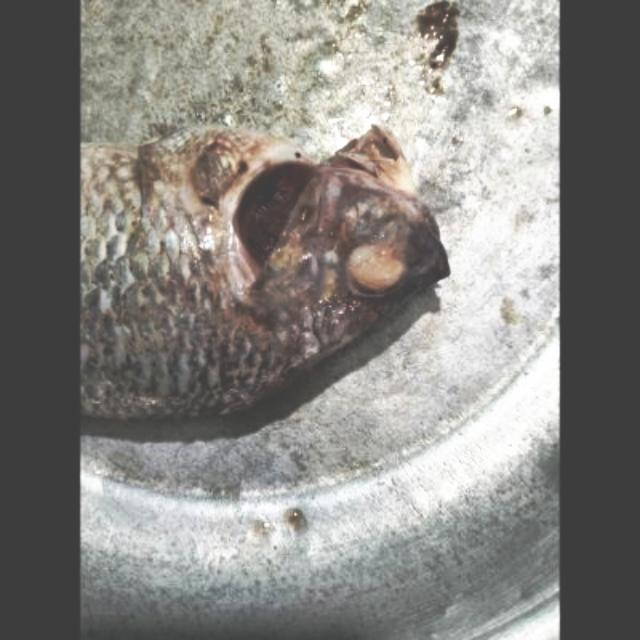Flavobacterium -Bacterial Gill Disease-: (82, 126, 450, 422), (82, 125, 448, 416), (82, 125, 448, 416)
